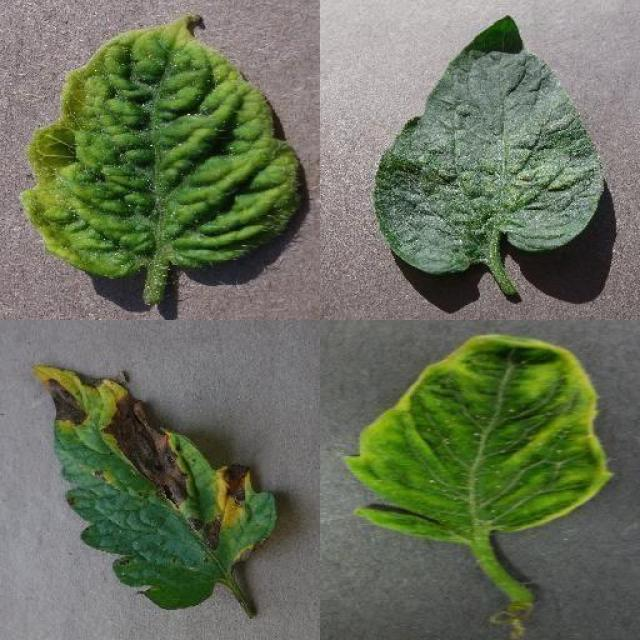Early Blight: (35, 364, 283, 610)
